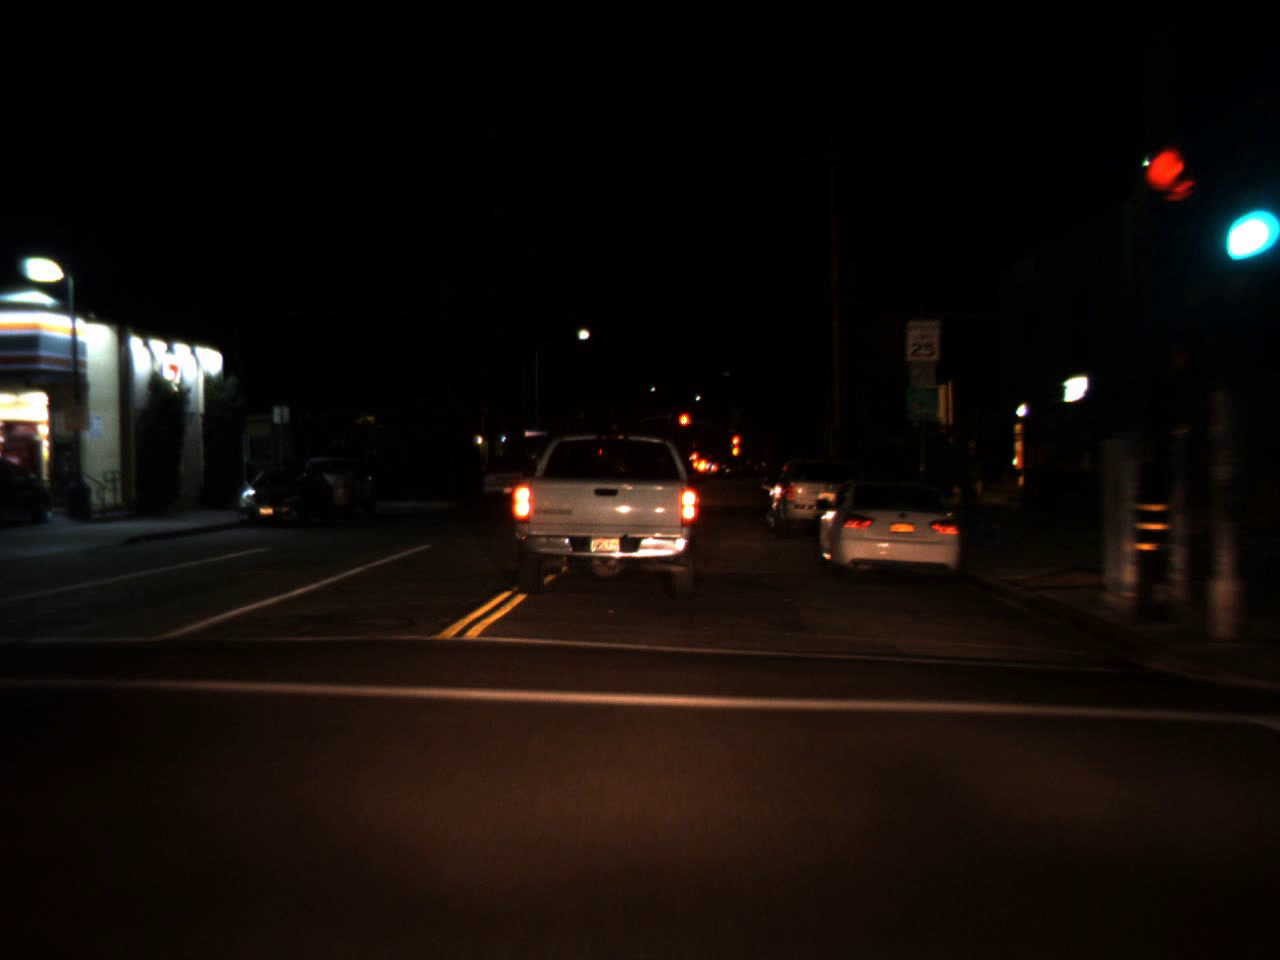go: (1215, 182, 1266, 266)
stop: (677, 411, 690, 440), (731, 435, 740, 451)
